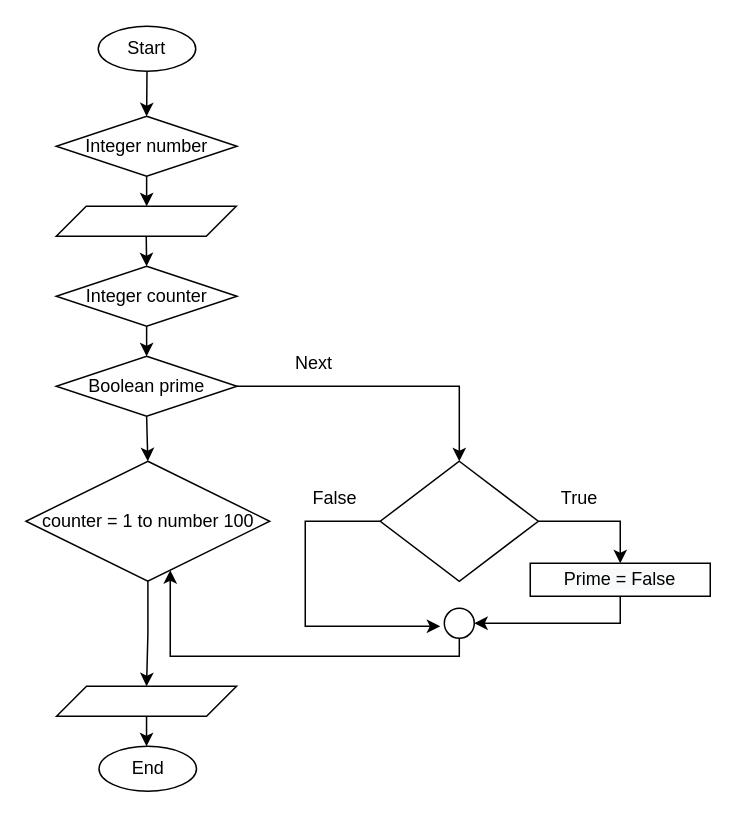
Some shapes in this 738 by 818 pixel diagram are drawn without their labels. The centre of each missing label's shape, as x and y in pixels:
"Input number" goes at (x=145, y=220).
"number % counter == 0" goes at (x=458, y=520).
"output prime" goes at (x=146, y=700).
